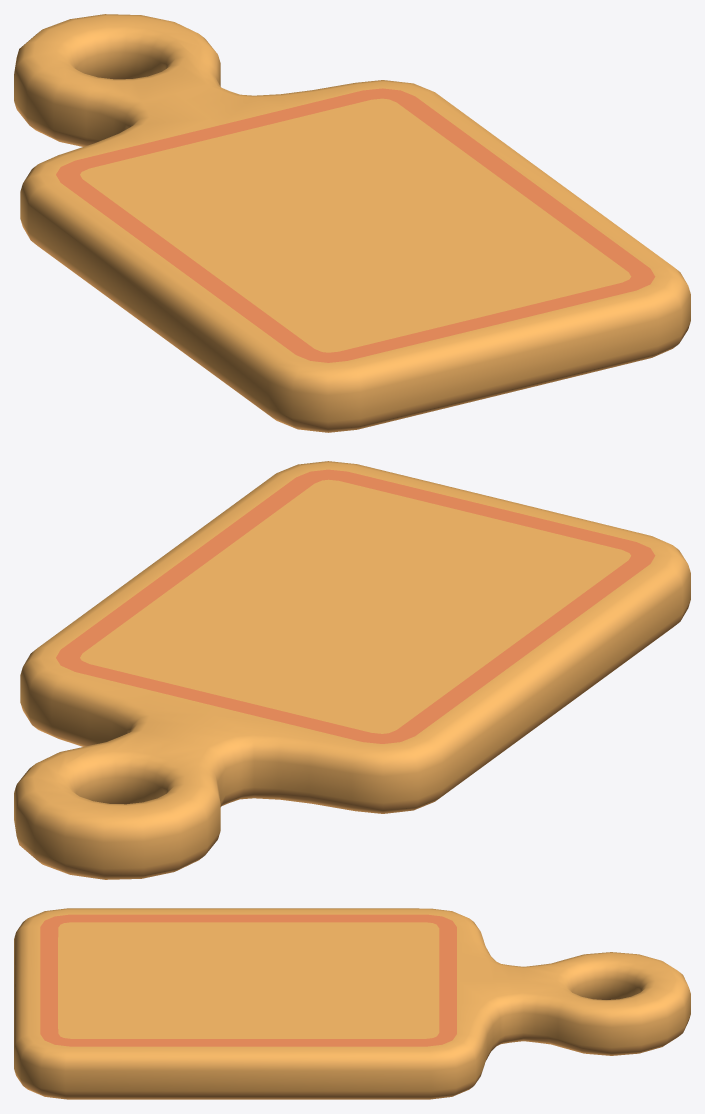
The model's file is Cutting_board_02.glb.
3 renders of one model, top to bottom at view 1: azimuth 30°, elevation 25°; view 2: azimuth 150°, elevation 25°; view 3: azimuth 270°, elevation 25°, orthographic. The views are drawn at different scales.
Visible parts, largest first — view 1: Cutting_board_02; view 2: Cutting_board_02; view 3: Cutting_board_02.
Part boxes in pixels (left/top/right/bottom): Cutting_board_02: left=14, top=14, right=690, bottom=432; Cutting_board_02: left=14, top=461, right=690, bottom=879; Cutting_board_02: left=14, top=908, right=690, bottom=1099.
Bounding box in the file's own units: 0.247 × 0.035 × 0.4589.
1 material, 1 textured.
